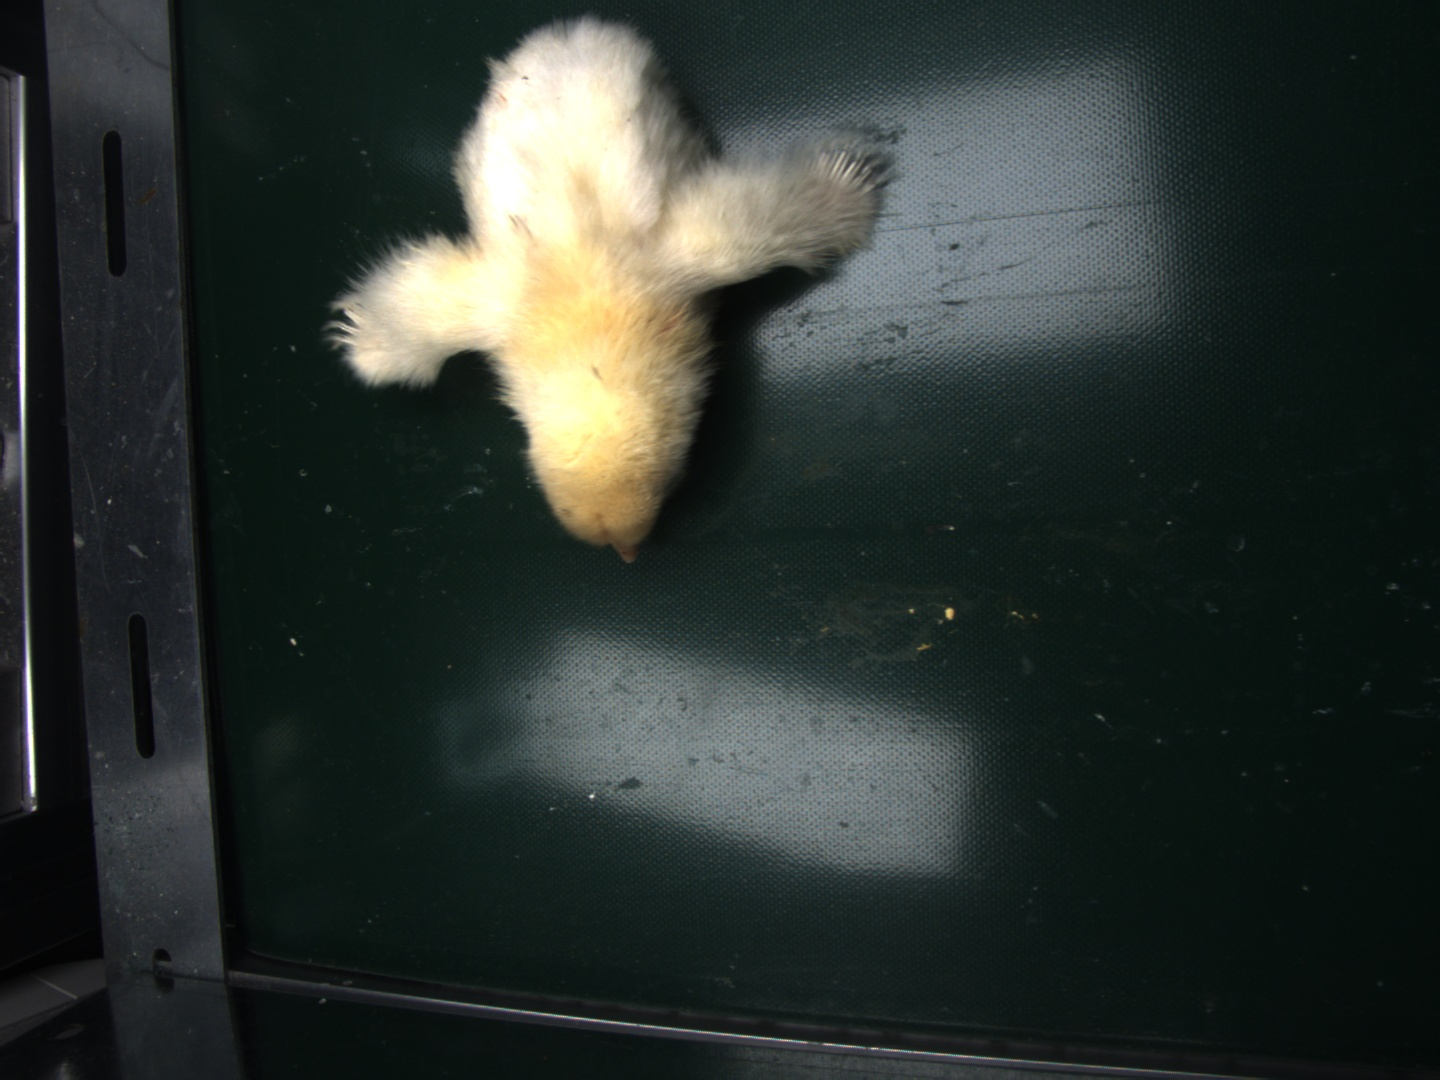male: (818, 153, 875, 199)
